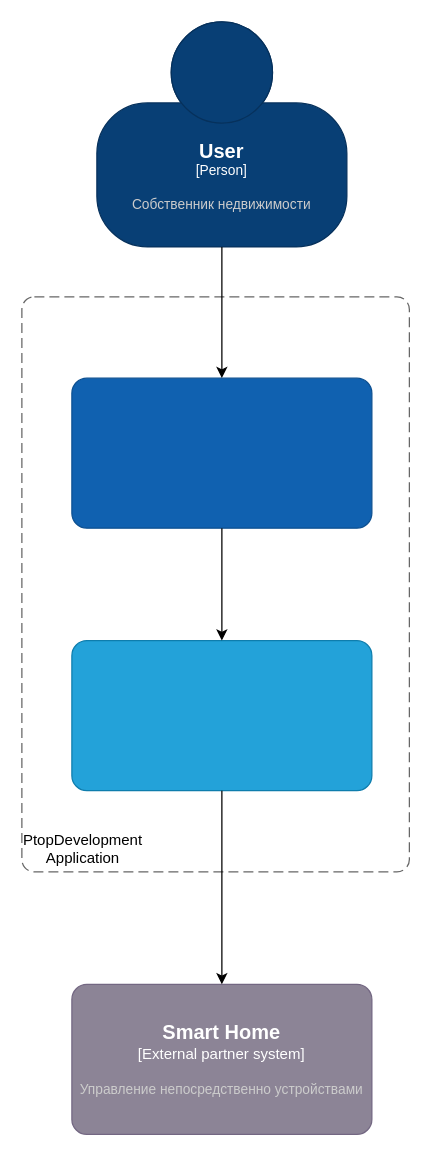
The diagram is 431 pixels wide and 1156 high, and some of its shapes have lost their labels. Each missing label, with the centre of its shape:
"PropDevelopment System [Container] Витрина" goes at point 221,452.
"SmartHomeService Сервис устройств умного дома" goes at point 221,715.
